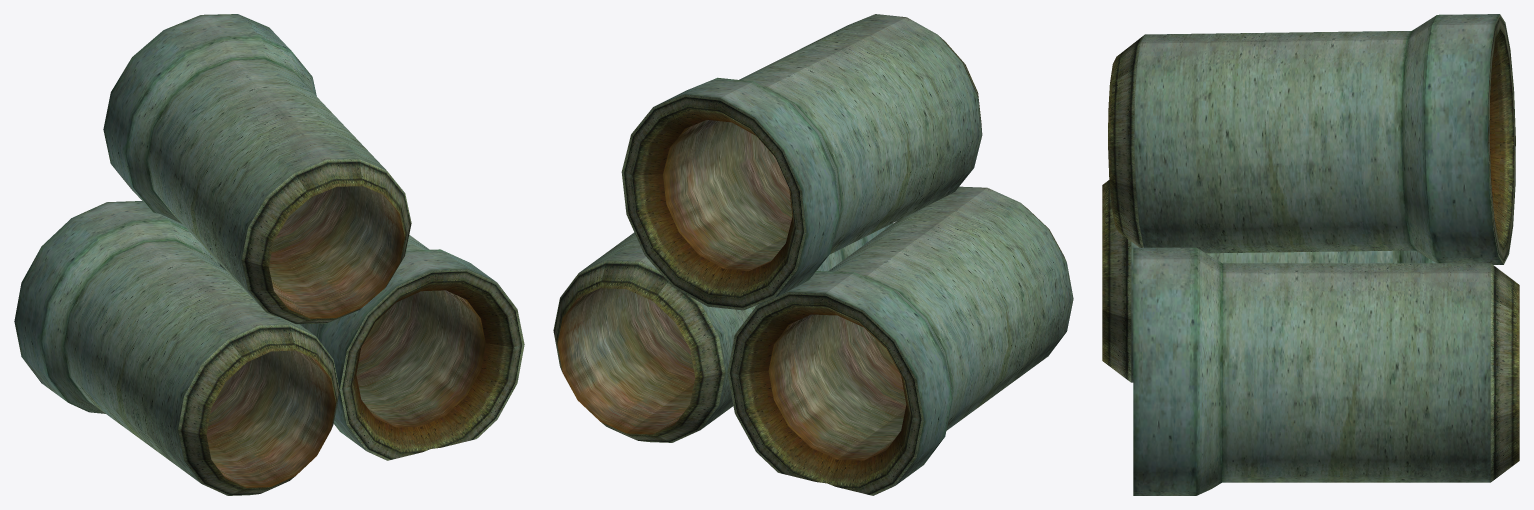
Rendered from pipes_concrete_medium_stack.fbx.
3 views of the same model, side by side, from view 1: azimuth 30°, elevation 25°; view 2: azimuth 150°, elevation 25°; view 3: azimuth 270°, elevation 25° (orthographic). The views are drawn at different scales.
Visible parts, largest first — view 1: mesh_0; view 2: mesh_0; view 3: mesh_0.
Part boxes in pixels (box(x1,y1,x2,y2)): mesh_0: box(14, 14, 524, 495); mesh_0: box(553, 14, 1073, 495); mesh_0: box(1102, 14, 1519, 495).
Size of the model in its own units: 333 by 302 by 285.
1 material, 1 textured.
